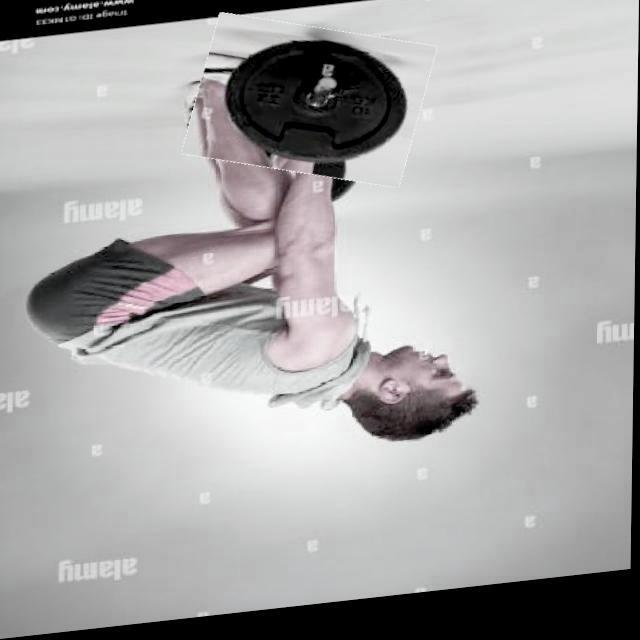barbell: (188, 12, 432, 202)
